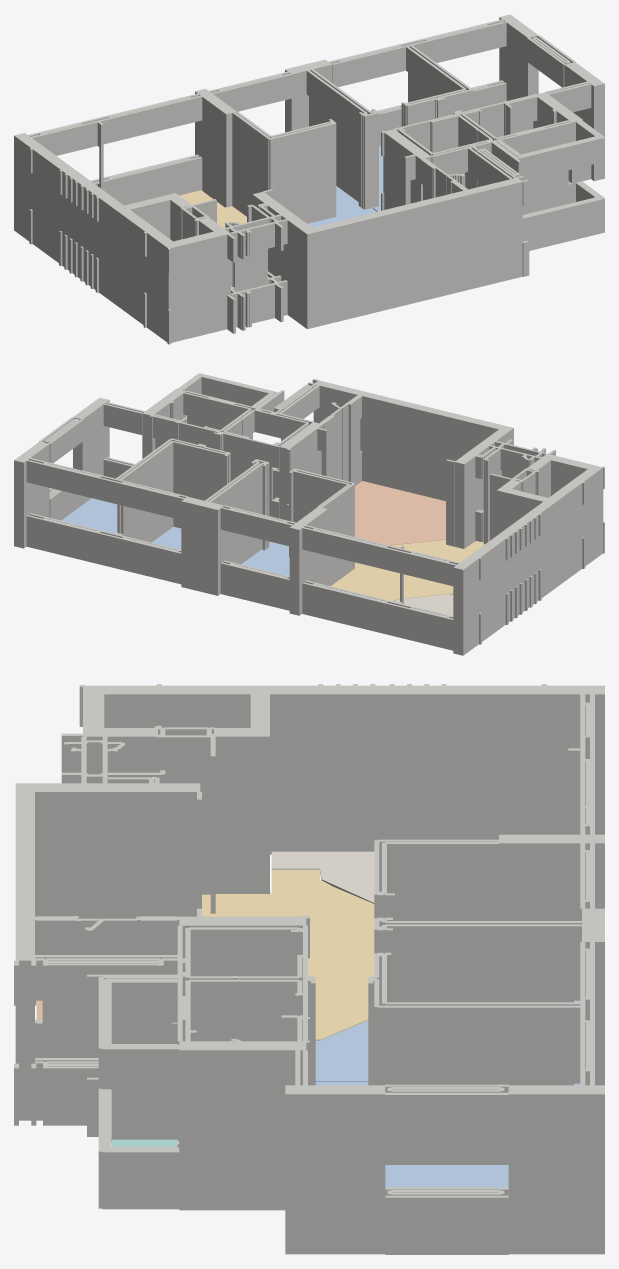
3 renders of one model, top to bottom at view 1: azimuth 30°, elevation 25°; view 2: azimuth 150°, elevation 25°; view 3: azimuth 270°, elevation 25°, orthographic. The views are drawn at different scales.
Parts seen in each view (by area): view 1: walls, room:bedroom:0, room:living:4; view 2: walls, room:kitchen:7, room:living:4, room:bedroom:2, room:bedroom:0, room:other:1, room:bedroom:3; view 3: walls, room:living:4, room:other:1, room:bedroom:2, room:bedroom:0.
Part boxes in pixels (x1,y1,x2,y2): walls: [14, 14, 604, 344]; room:bedroom:0: [307, 186, 376, 227]; room:living:4: [179, 190, 246, 227]; walls: [14, 373, 604, 655]; room:kitchen:7: [355, 481, 445, 545]; room:living:4: [331, 539, 484, 601]; room:bedroom:2: [61, 498, 117, 533]; room:bedroom:0: [241, 541, 289, 576]; room:other:1: [394, 593, 453, 615]; room:bedroom:3: [152, 526, 181, 549]; walls: [14, 684, 604, 1254]; room:living:4: [202, 869, 374, 1040]; room:other:1: [271, 851, 374, 903]; room:bedroom:2: [385, 1165, 508, 1187]; room:bedroom:0: [315, 1000, 580, 1081].
Size of the model in its own units: 15.41 by 2.8 by 9.37.
